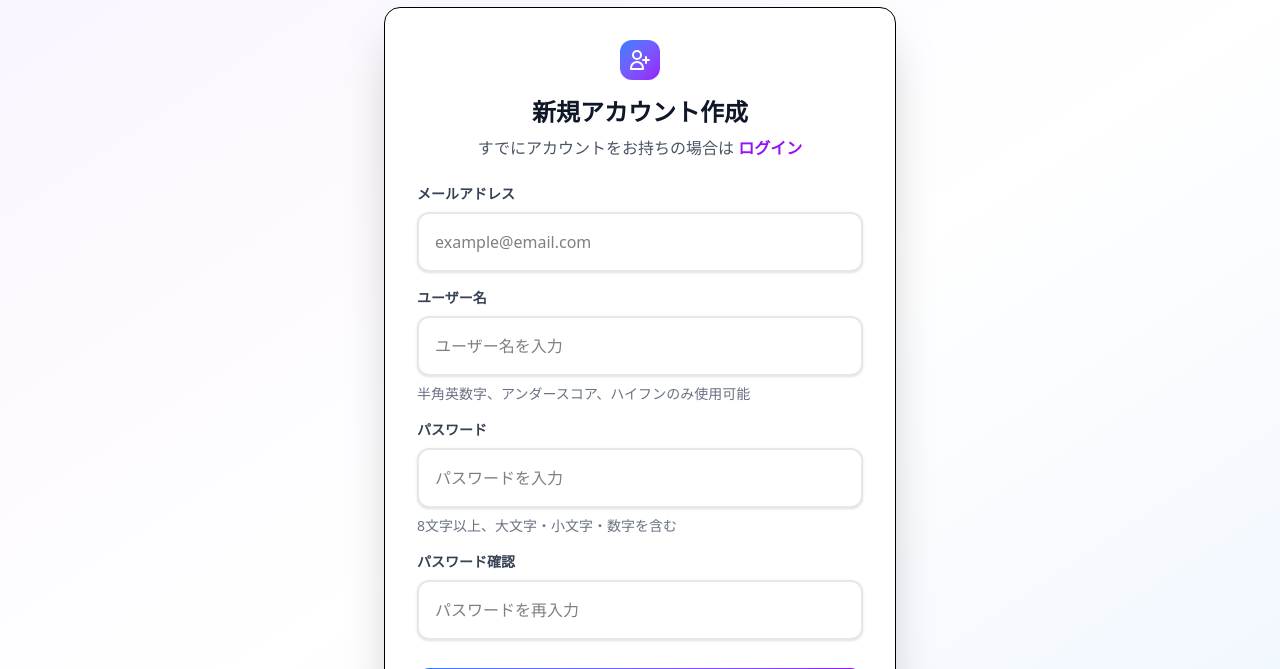
Test: RegisterForm Component › Detailed Validation Tests (from E2E) › validates password strength requirements
# 弱いパスワードでテスト
Type "test@example.com" into the field labelled "メールアドレス".
click(640, 242); type("test@example.com")  # box [417, 212, 863, 272]
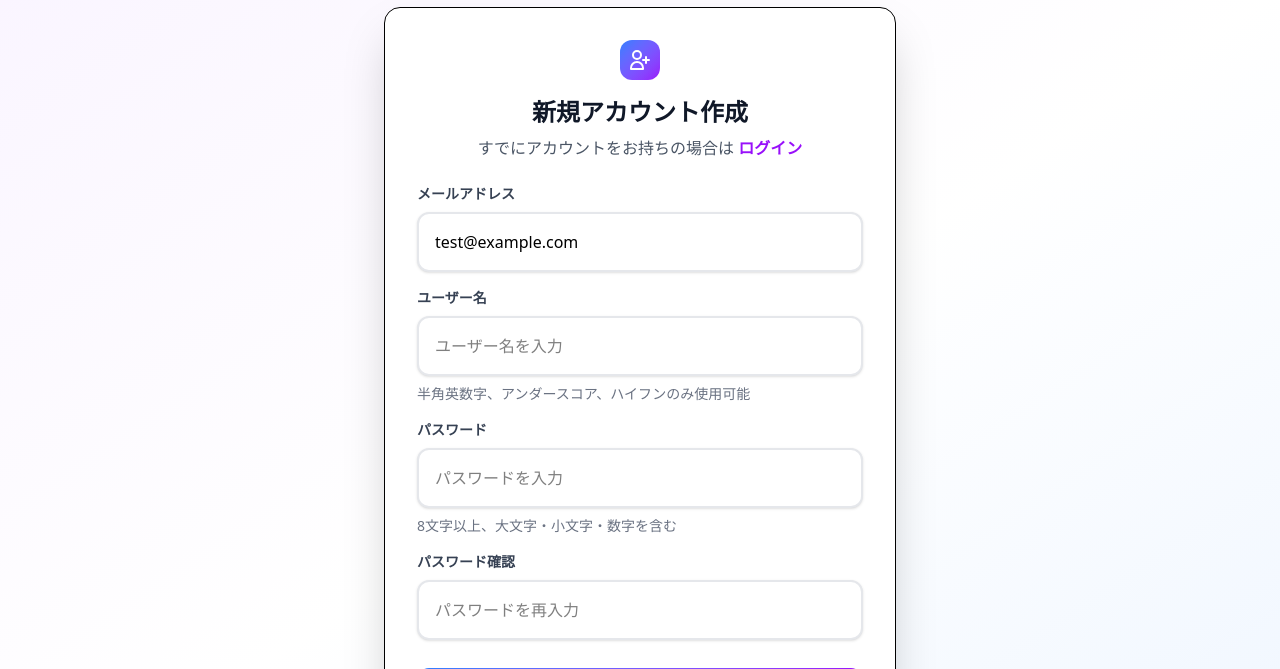
Type "testuser" into the field labelled "ユーザー名".
click(640, 346); type("testuser")  # box [417, 316, 863, 376]
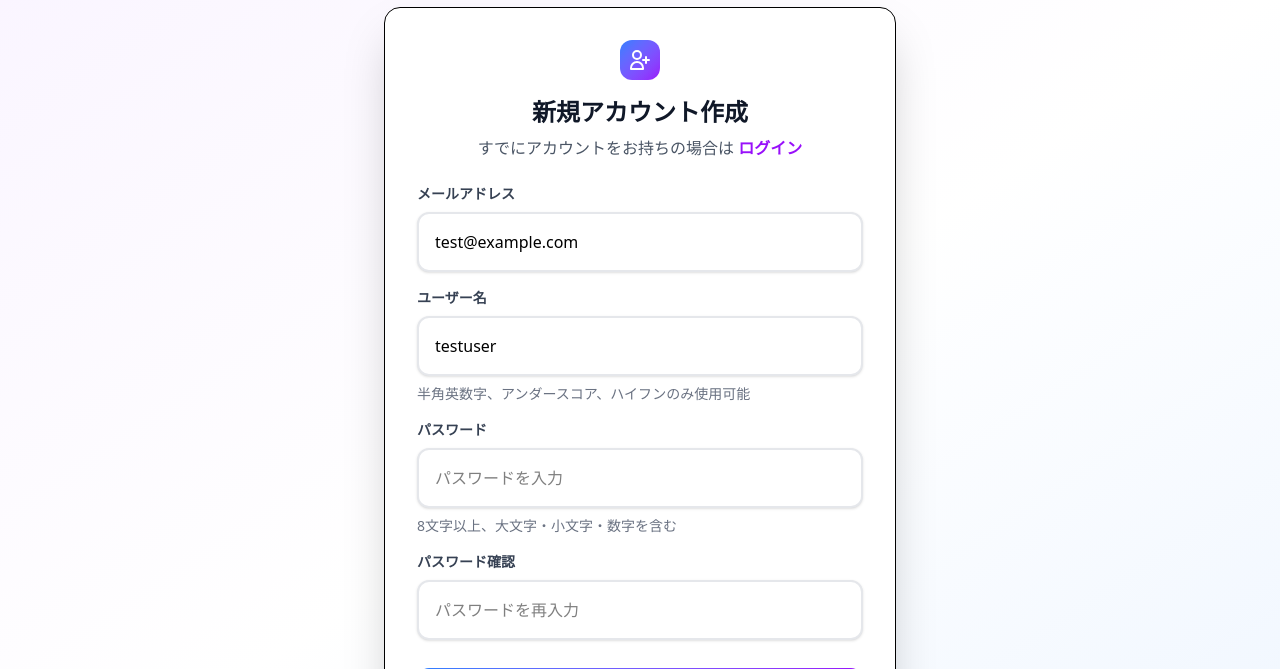
Type "weak" into the password field labelled "パスワード".
click(640, 478); type("weak")  # box [417, 448, 863, 508]
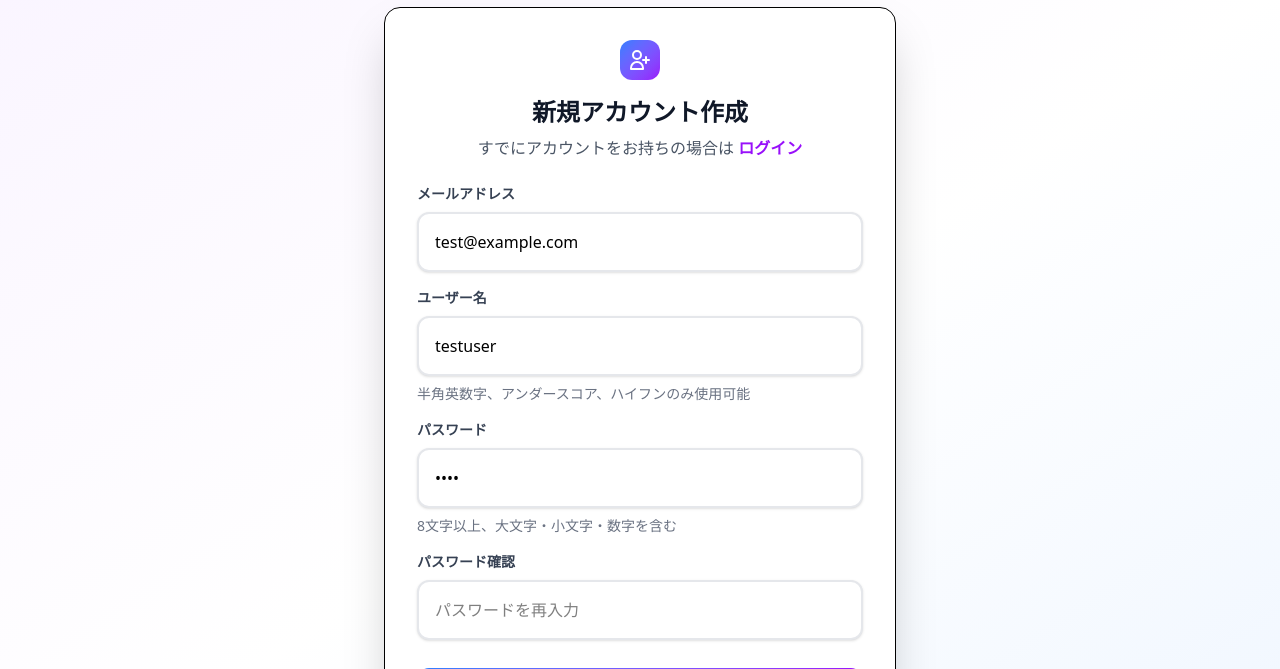
Type "weak" into the password field labelled "パスワード確認".
click(640, 610); type("weak")  # box [417, 580, 863, 640]
(page scrolled)
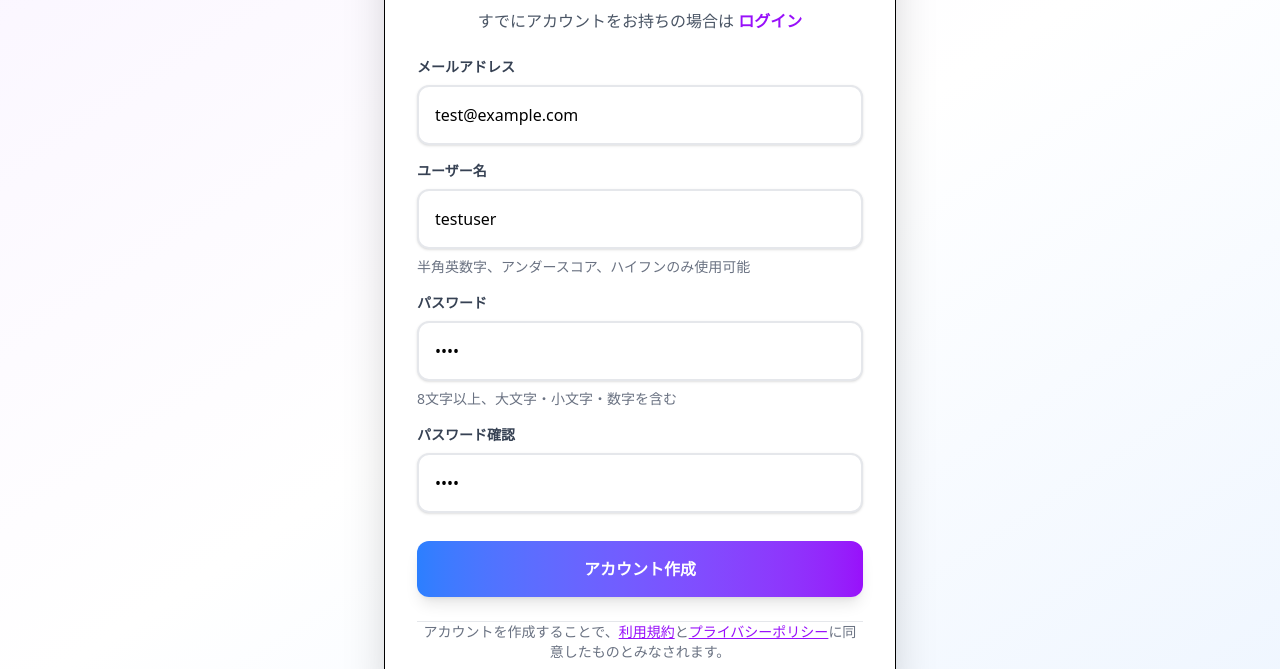
Click the button "アカウント作成".
click(640, 569)  # box [417, 541, 863, 597]
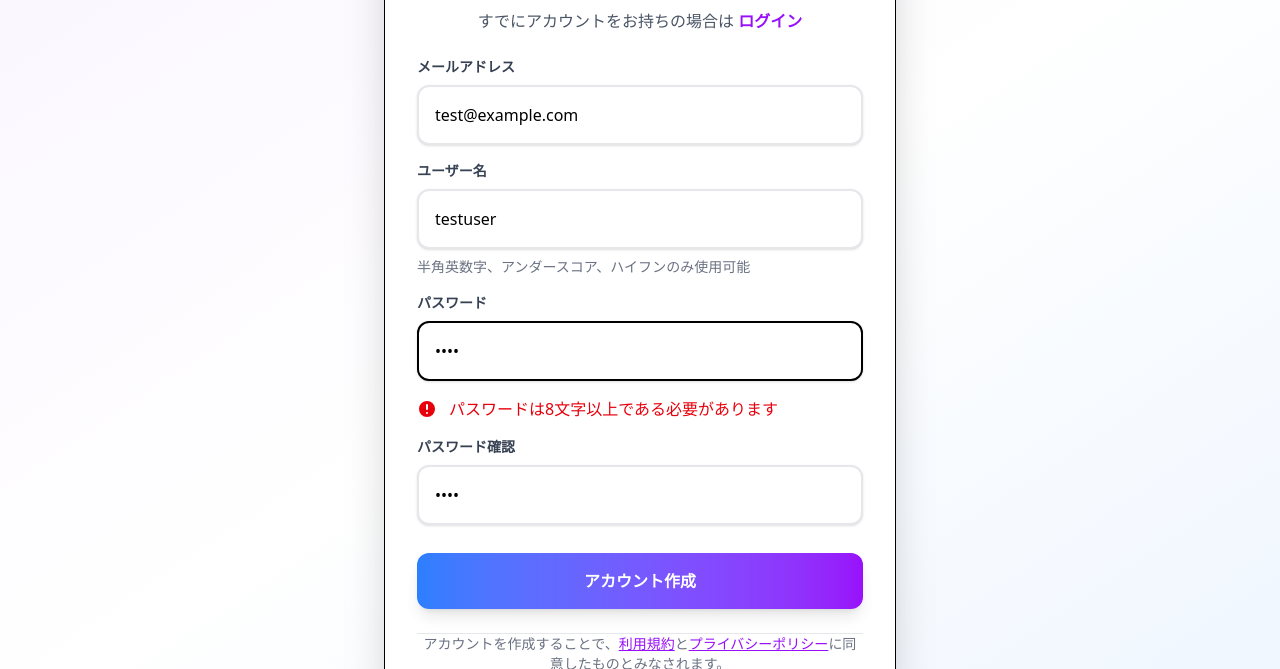
Check: the text "パスワードは8文字以上である必要があります" is shown, box [417, 398, 778, 420]
